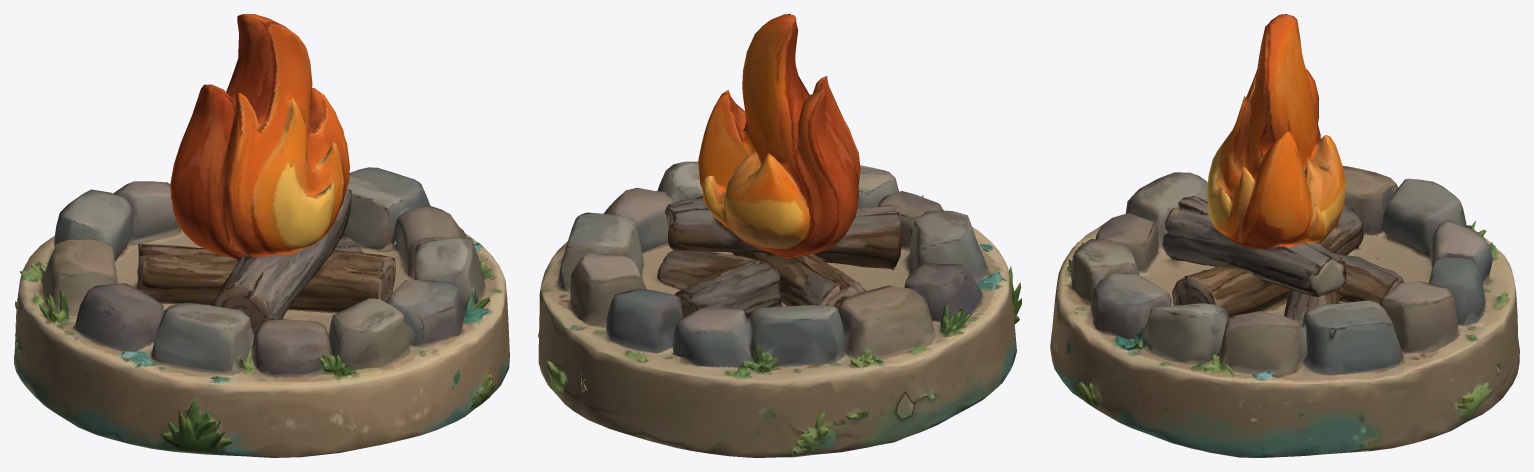
File: sw-fire.glb
The picture shows the model from 3 angles, left to right: view 1: azimuth 30°, elevation 25°; view 2: azimuth 150°, elevation 25°; view 3: azimuth 270°, elevation 25°; orthographic projection. The views are drawn at different scales.
Visible parts, largest first — view 1: geometry_0; view 2: geometry_0; view 3: geometry_0.
Part boxes in pixels (<box>): geometry_0: <box>14,14,509,457</box>; geometry_0: <box>538,14,1021,457</box>; geometry_0: <box>1050,14,1519,457</box>.
Size of the model in its own units: 0.8904 by 0.7123 by 0.8866.
Materials: 1 (1 with a texture image).
